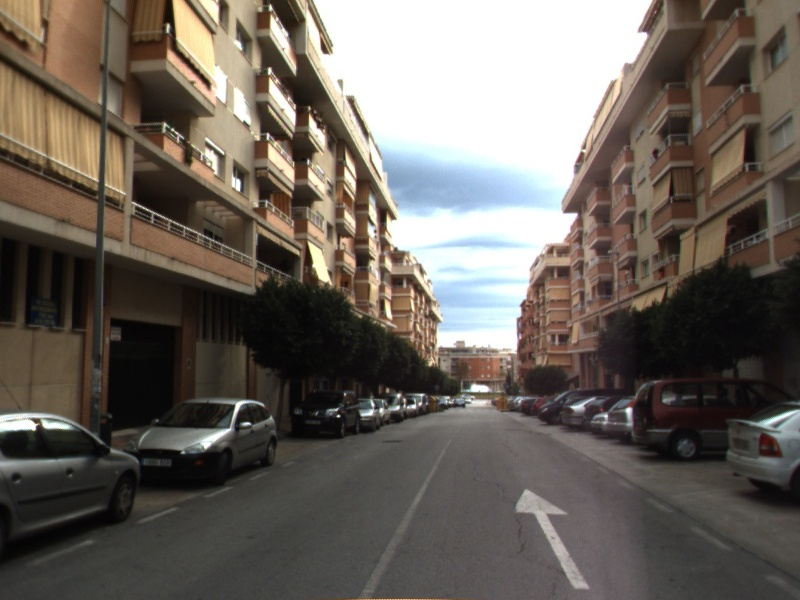STRAIGHT: (510, 485, 593, 591)
